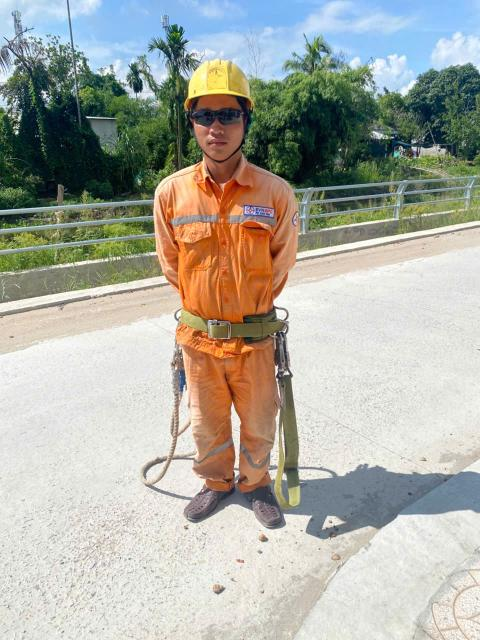harness: (153, 298, 297, 352)
helmet: (176, 57, 263, 116)
shoes: (180, 467, 231, 532), (239, 480, 293, 534)
